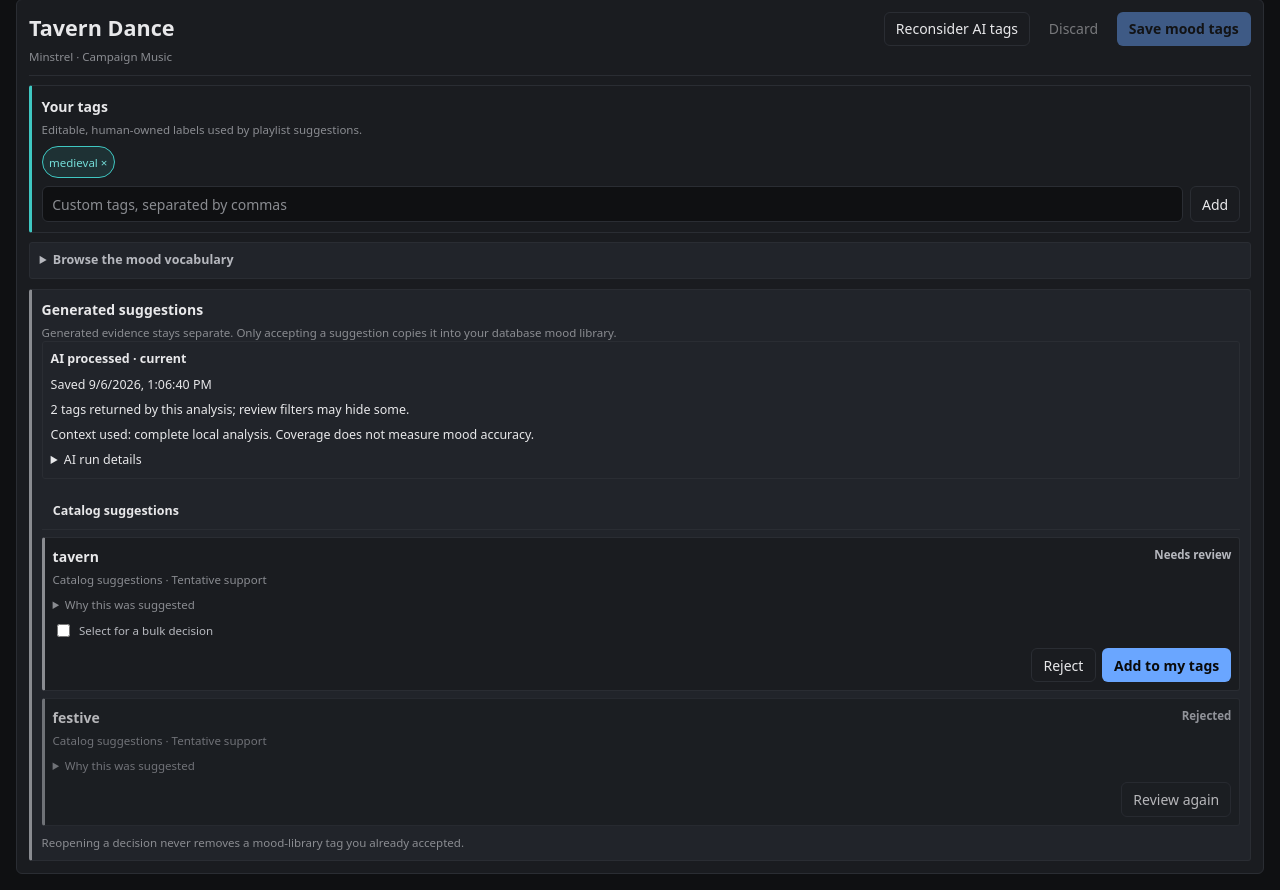
Test: LibraryTagEditor › accepts one generated suggestion into manual tags
(page scrolled)
Expected: the heading "Tavern Dance" is shown, [29,12,174,44]
What coordinates should you click on to do the following:
click the button with aria-label "Accept tavern into mood library"
I would click on:
 (1167, 665)
Its box is [1102,648,1231,682].
(page scrolled)
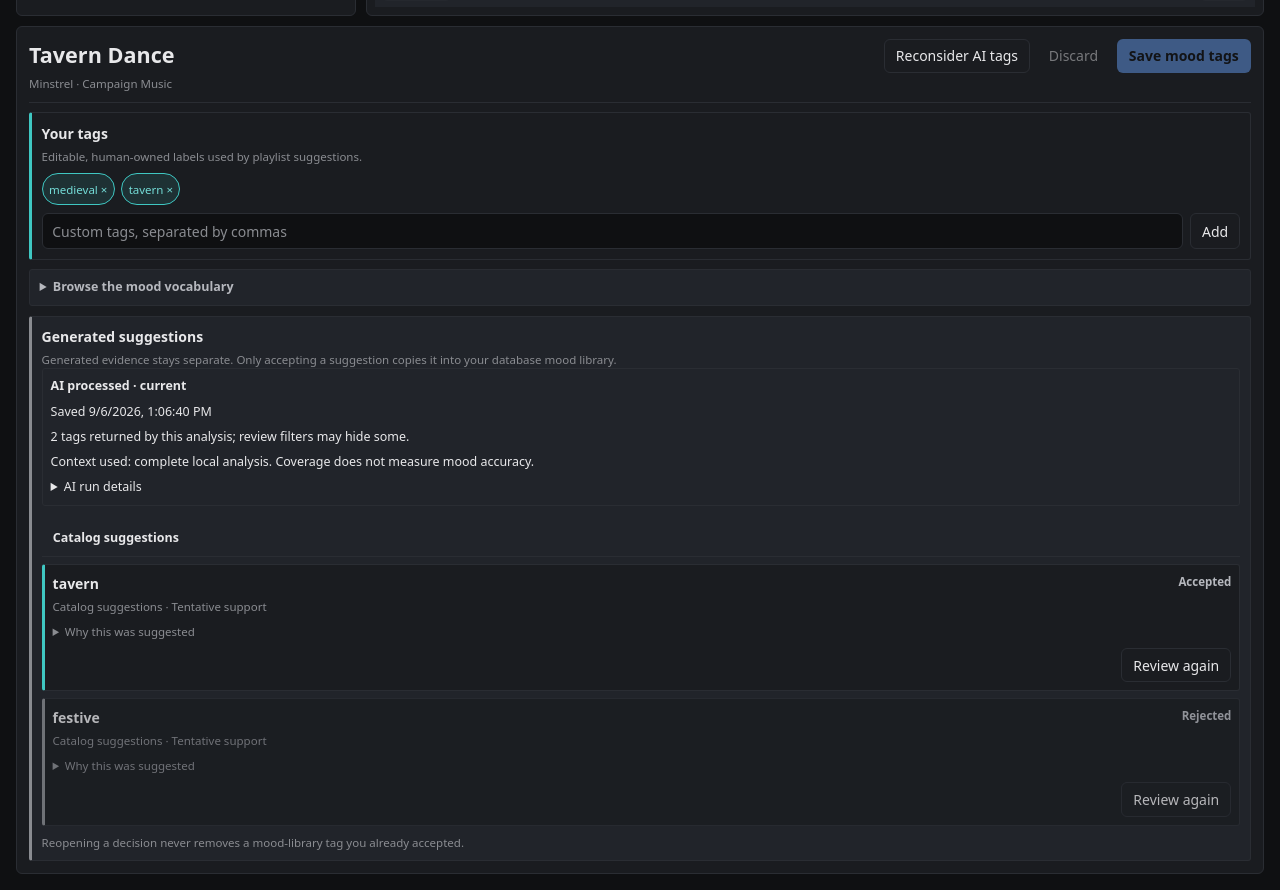
Expected: the button with aria-label "Remove tag tavern" is shown, [121,173,180,205]
Expected: the text "Accepted" is shown, [1178,573,1231,590]
